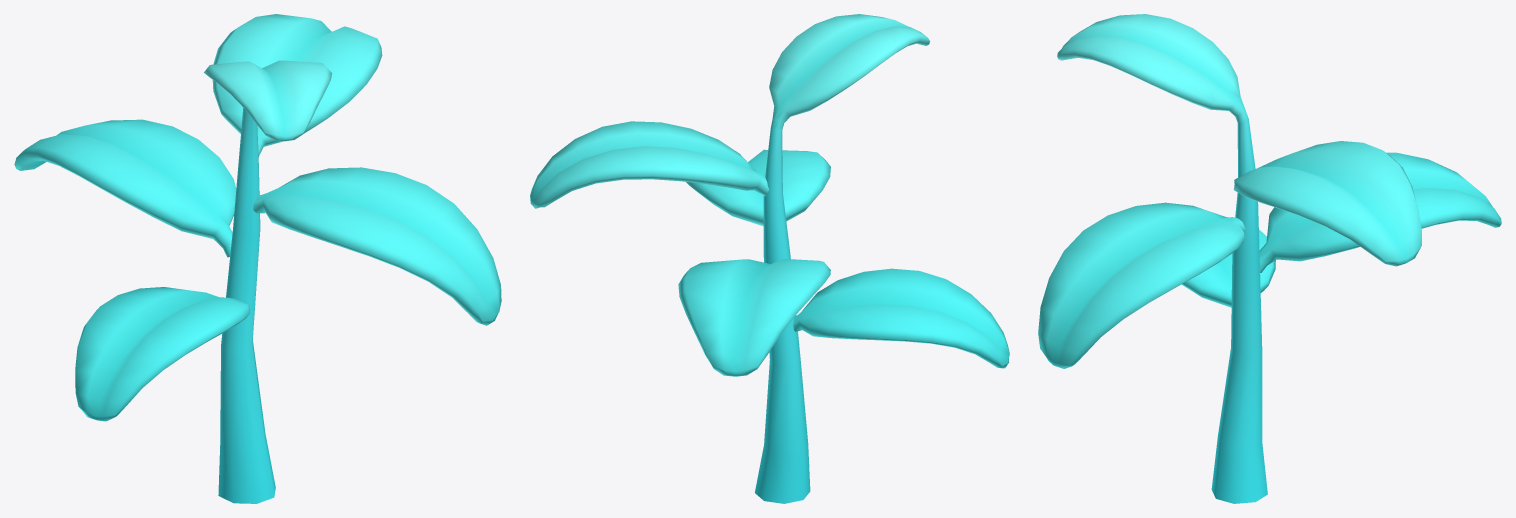
File: Bush_01.glb
3 views of the same model, side by side, from view 1: azimuth 30°, elevation 25°; view 2: azimuth 150°, elevation 25°; view 3: azimuth 270°, elevation 25° (orthographic). The views are drawn at different scales.
Visible parts, largest first — view 1: Bush_01; view 2: Bush_01; view 3: Bush_01.
Boxes of the visible parts, left/top/right/bottom form: Bush_01: left=14, top=14, right=501, bottom=503; Bush_01: left=530, top=14, right=1009, bottom=503; Bush_01: left=1038, top=14, right=1501, bottom=503.
Bounding box in the file's own units: 3.45 × 3.88 × 3.66.
1 material, 1 textured.
